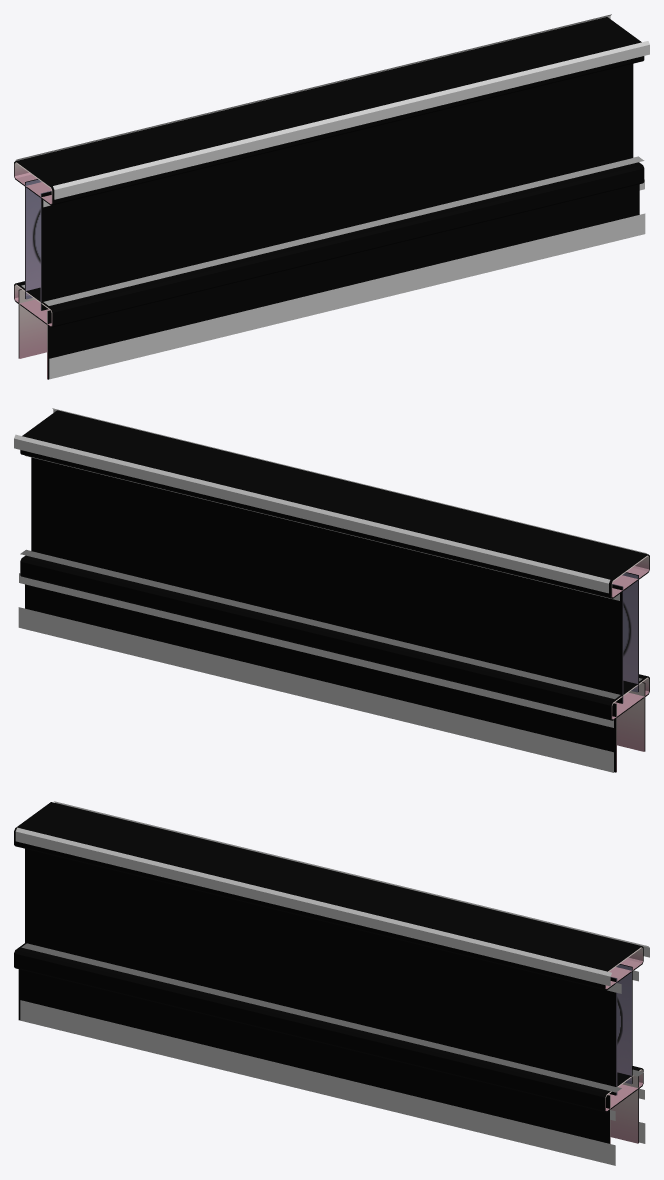
The model's file is Rooms_Paradise_SmallWall02_Art.fbx.
3 views of the same model, one above another, from view 1: azimuth 30°, elevation 25°; view 2: azimuth 150°, elevation 25°; view 3: azimuth 330°, elevation 25° (orthographic).
Parts seen in each view (by area): view 1: Rooms_Paradise_SmallWall_Outliner, Rooms_Paradise_Wall01_Shadows3, Rooms_Paradise_SmallWall01_Art; view 2: Rooms_Paradise_SmallWall_Outliner, Rooms_Paradise_Wall01_Shadows3, Rooms_Paradise_SmallWall01_Art; view 3: Rooms_Paradise_SmallWall_Outliner, Rooms_Paradise_Wall01_Shadows3, Rooms_Paradise_SmallWall01_Art.
Boxes of the visible parts, bbox=[...] form: Rooms_Paradise_SmallWall_Outliner: bbox=[14, 17, 644, 379]; Rooms_Paradise_Wall01_Shadows3: bbox=[15, 14, 649, 379]; Rooms_Paradise_SmallWall01_Art: bbox=[14, 162, 52, 379]; Rooms_Paradise_SmallWall_Outliner: bbox=[20, 410, 649, 772]; Rooms_Paradise_Wall01_Shadows3: bbox=[14, 408, 646, 772]; Rooms_Paradise_SmallWall01_Art: bbox=[611, 555, 649, 771]; Rooms_Paradise_SmallWall_Outliner: bbox=[14, 802, 643, 1143]; Rooms_Paradise_Wall01_Shadows3: bbox=[15, 801, 649, 1165]; Rooms_Paradise_SmallWall01_Art: bbox=[605, 947, 642, 1143].
Bounding box in the file's own units: 404 × 126 × 46.11.
